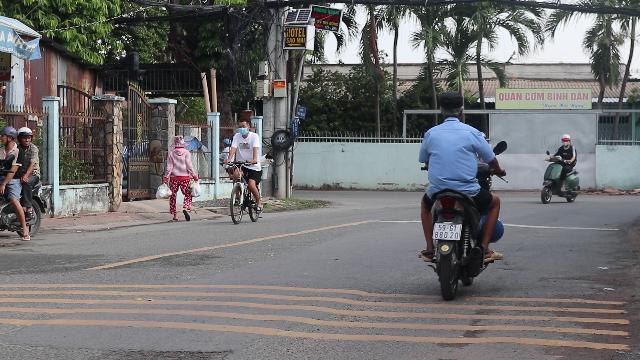helmet: (1, 126, 17, 146), (17, 127, 33, 145)
licenseplate: (433, 222, 462, 240)
motorcyclist: (412, 88, 508, 292), (0, 125, 48, 248)
nohelmet: (436, 90, 464, 122)
